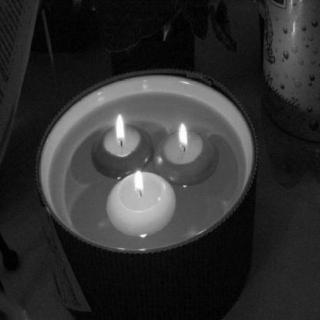Fire: (109, 108, 130, 146), (176, 120, 192, 158)
